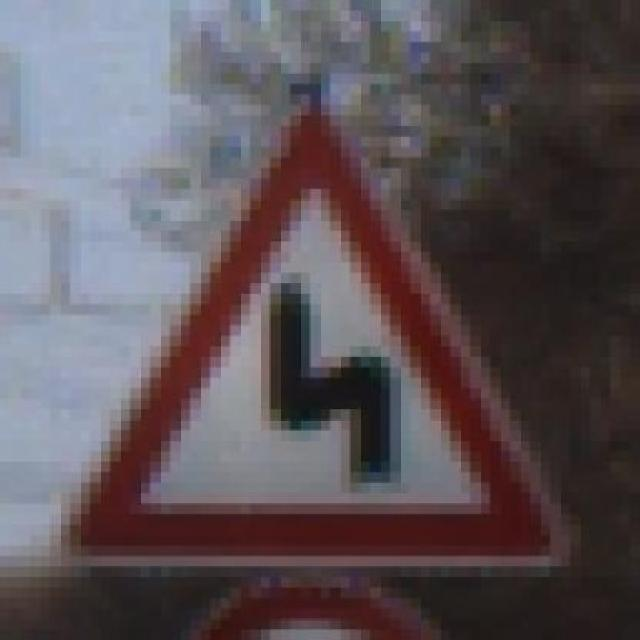Left Zig Zag Traffic: (30, 105, 590, 577)
